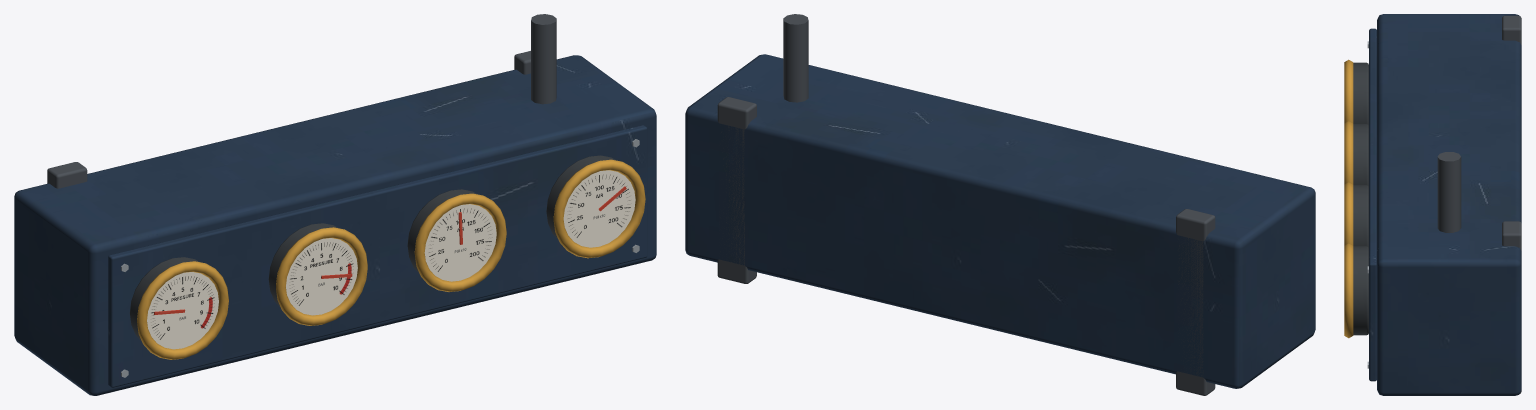
File: WallBox_90_2.glb
The picture shows the model from 3 angles, left to right: view 1: azimuth 30°, elevation 25°; view 2: azimuth 150°, elevation 25°; view 3: azimuth 270°, elevation 25°; orthographic projection. The views are drawn at different scales.
Parts seen in each view (by area): view 1: WallBox_90_2_Body; view 2: WallBox_90_2_Body; view 3: WallBox_90_2_Body.
Part boxes in pixels (<box>): WallBox_90_2_Body: <box>14,14,656,395</box>; WallBox_90_2_Body: <box>685,14,1315,395</box>; WallBox_90_2_Body: <box>1344,14,1521,395</box>.
Bounding box in the file's own units: 0.9 × 0.37 × 0.2698.
Materials: 8 (5 with a texture image).
